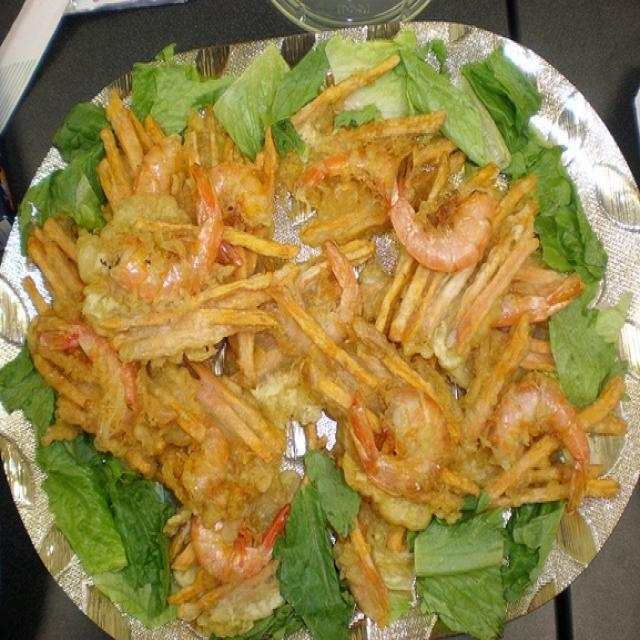炸货点心: (10, 21, 631, 610)
熟制海鲜: (10, 21, 631, 610)
